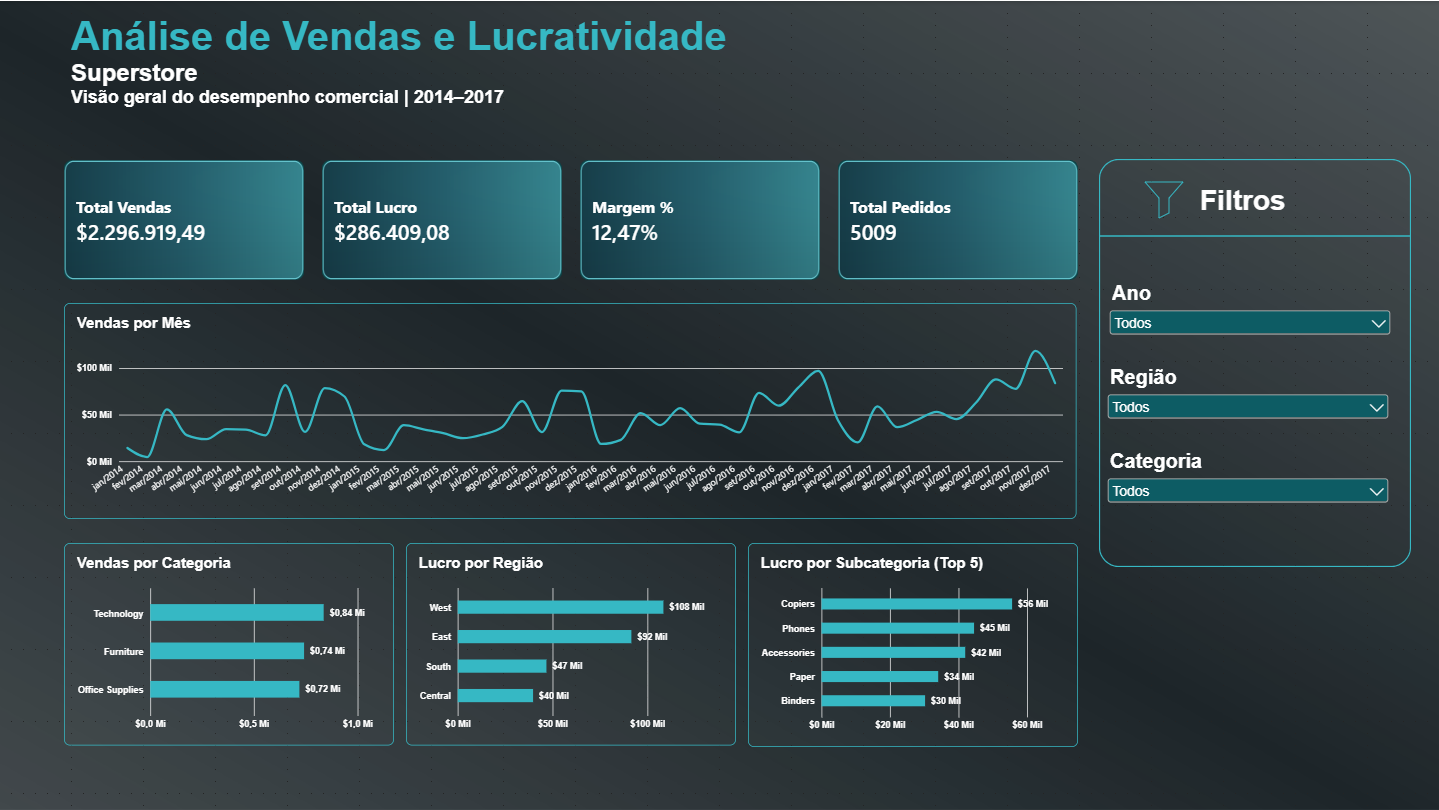

What the dashboard file says about the page in this screenshot:
{"tool":"powerbi","page":{"name":"Página 1","canvas":[1920,1080],"ordinal":0},"visuals":[{"type":"shape","box":[1466.7,210,416,544],"z":0},{"type":"cardVisual","fields":{"Data":["superstore_tratado.Total Vendas"]},"box":[86.3,212.3,320,160],"z":1000},{"type":"cardVisual","fields":{"Data":["superstore_tratado.Total Lucro"]},"box":[430.3,212.3,320,160],"z":2000},{"type":"cardVisual","fields":{"Data":["superstore_tratado.Total Pedidos"]},"box":[1118.3,212.3,320,160],"z":3000},{"type":"cardVisual","fields":{"Data":["superstore_tratado.Margem %"]},"box":[774.3,212.3,320,160],"z":4000},{"type":"lineChart","title":"Vendas por Mês","fields":{"Category":["superstore_tratado.MesAno"],"Y":["superstore_tratado.Total Vendas"]},"box":[86.3,402.3,1350,288],"z":5000},{"type":"clusteredBarChart","title":"Vendas por Categoria","fields":{"Category":["superstore_tratado.category"],"Y":["superstore_tratado.Total Vendas"]},"box":[86.3,722.3,440,270],"z":6000},{"type":"clusteredBarChart","title":"Lucro por Região","fields":{"Category":["superstore_tratado.region"],"Y":["superstore_tratado.Total Lucro"]},"box":[542.3,722.3,440,270],"z":7000},{"type":"clusteredBarChart","title":"Lucro por Subcategoria (Top 5)","fields":{"Category":["superstore_tratado.sub_category"],"Y":["superstore_tratado.Total Lucro"]},"box":[998.3,722.3,440,272],"z":8000},{"type":"slicer","fields":{"Values":["superstore_tratado.order_date.Variação.Hierarquia de datas.Ano"]},"box":[1475.6,374.3,384,112],"z":9000},{"type":"slicer","fields":{"Values":["superstore_tratado.region"]},"box":[1473.3,486.3,384,112],"z":10000},{"type":"slicer","fields":{"Values":["superstore_tratado.category"]},"box":[1473.3,598.3,384,112],"z":11000},{"type":"textbox","box":[1601,236.3,160,64],"z":11001},{"type":"image","box":[1505.3,230.3,96,64],"z":11002},{"type":"shape","box":[1466.7,290,416,48],"z":11003},{"type":"textbox","box":[96,16,1104,144],"z":11004}]}

Visuals, with their boxes in screenshot pixels (x1, y1, x2, y2), scaled from the page's 1920x1080 canvas onto the 1439x810 screenshot:
shape: locate(1099, 158, 1411, 566)
cardVisual - superstore_tratado.Total Vendas: locate(65, 159, 305, 279)
cardVisual - superstore_tratado.Total Lucro: locate(323, 159, 562, 279)
cardVisual - superstore_tratado.Total Pedidos: locate(838, 159, 1078, 279)
cardVisual - superstore_tratado.Margem %: locate(580, 159, 820, 279)
"Vendas por Mês" lineChart: locate(65, 302, 1076, 518)
"Vendas por Categoria" clusteredBarChart: locate(65, 542, 394, 744)
"Lucro por Região" clusteredBarChart: locate(406, 542, 736, 744)
"Lucro por Subcategoria (Top 5)" clusteredBarChart: locate(748, 542, 1078, 746)
slicer - superstore_tratado.order_date.Variação.Hierarquia de datas.Ano: locate(1106, 281, 1394, 365)
slicer - superstore_tratado.region: locate(1104, 365, 1392, 449)
slicer - superstore_tratado.category: locate(1104, 449, 1392, 533)
textbox: locate(1200, 177, 1320, 225)
image: locate(1128, 173, 1200, 221)
shape: locate(1099, 218, 1411, 254)
textbox: locate(72, 12, 899, 120)
